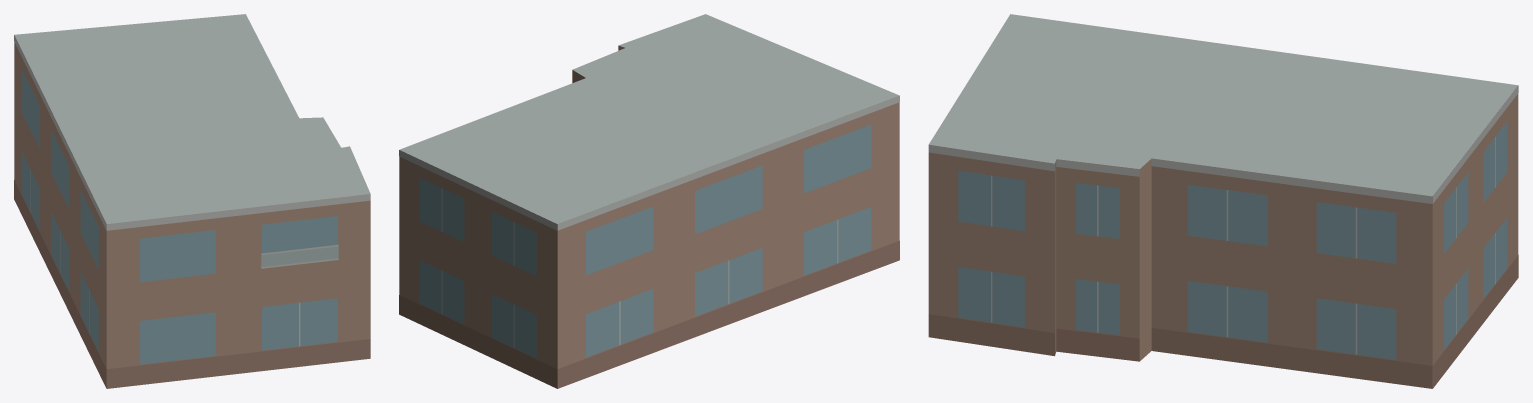
Rendered from survey-upis-32527426.glb.
3 views of the same model, side by side, from view 1: azimuth 30°, elevation 25°; view 2: azimuth 150°, elevation 25°; view 3: azimuth 270°, elevation 25° (orthographic). The views are drawn at different scales.
Visible parts, largest first — view 1: survey-upis-32527426.tmp; view 2: survey-upis-32527426.tmp; view 3: survey-upis-32527426.tmp.
Boxes of the visible parts, left/top/right/bottom form: survey-upis-32527426.tmp: left=14, top=14, right=370, bottom=388; survey-upis-32527426.tmp: left=399, top=14, right=899, bottom=388; survey-upis-32527426.tmp: left=928, top=14, right=1518, bottom=388.
Size of the model in its own units: 12.41 by 6.1 by 16.96.
